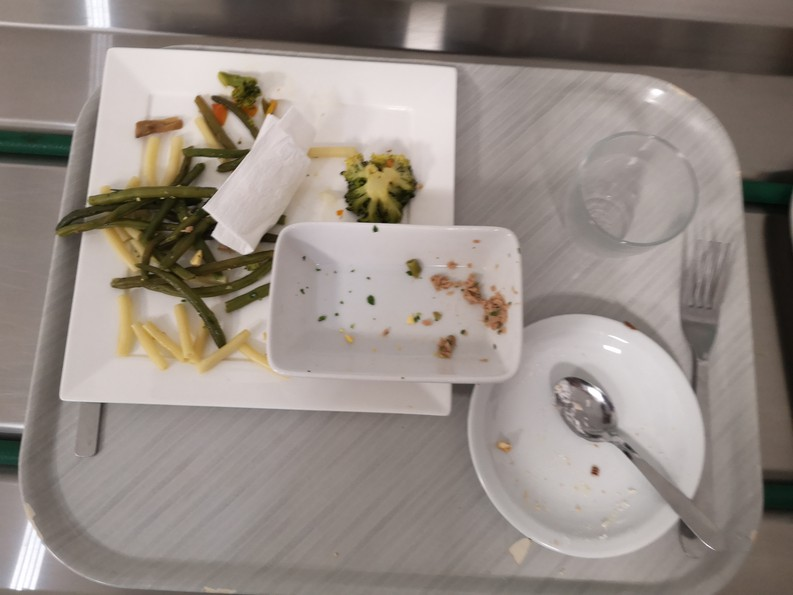cup: (562, 117, 734, 283)
cutlery: (540, 371, 727, 568), (678, 225, 727, 574)
orga: (99, 171, 214, 377), (338, 146, 424, 224)
trash: (207, 130, 323, 243)
